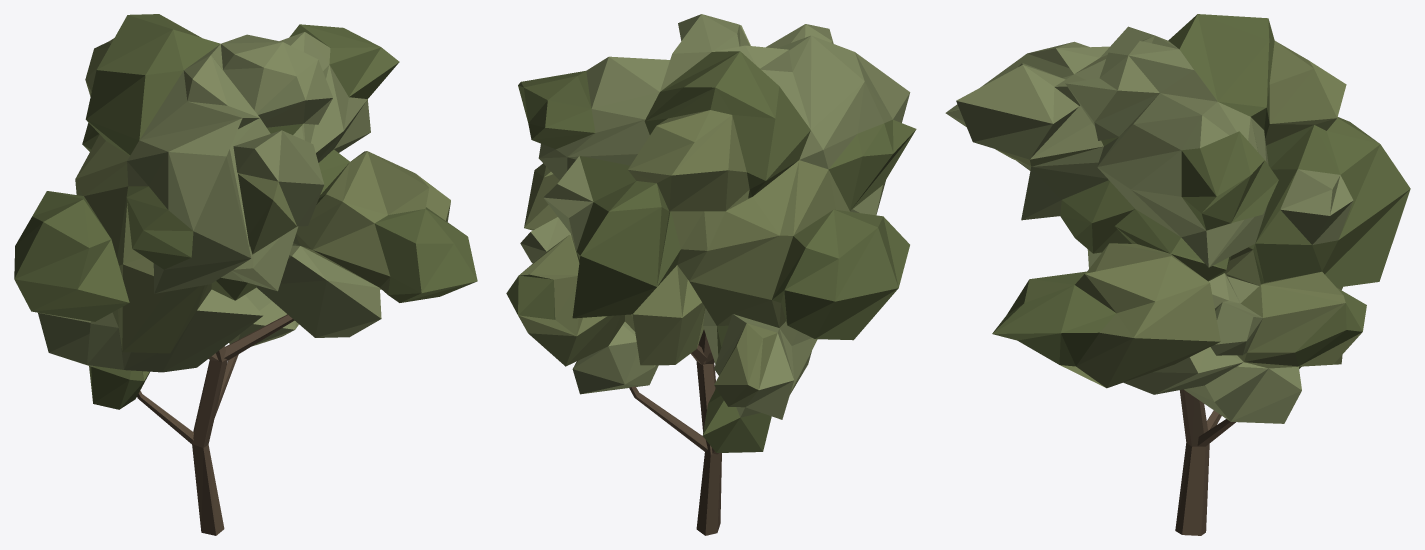
3 views of the same model, side by side, from view 1: azimuth 30°, elevation 25°; view 2: azimuth 150°, elevation 25°; view 3: azimuth 270°, elevation 25° (orthographic). The views are drawn at different scales.
Visible parts, largest first — view 1: compact-step-1; view 2: compact-step-1; view 3: compact-step-1.
Part boxes in pixels (box(x1,y1,x2,y2)): compact-step-1: box(14, 14, 477, 535); compact-step-1: box(506, 14, 916, 535); compact-step-1: box(945, 14, 1410, 535).
Bounding box in the file's own units: 17.44 × 20.77 × 17.41.
